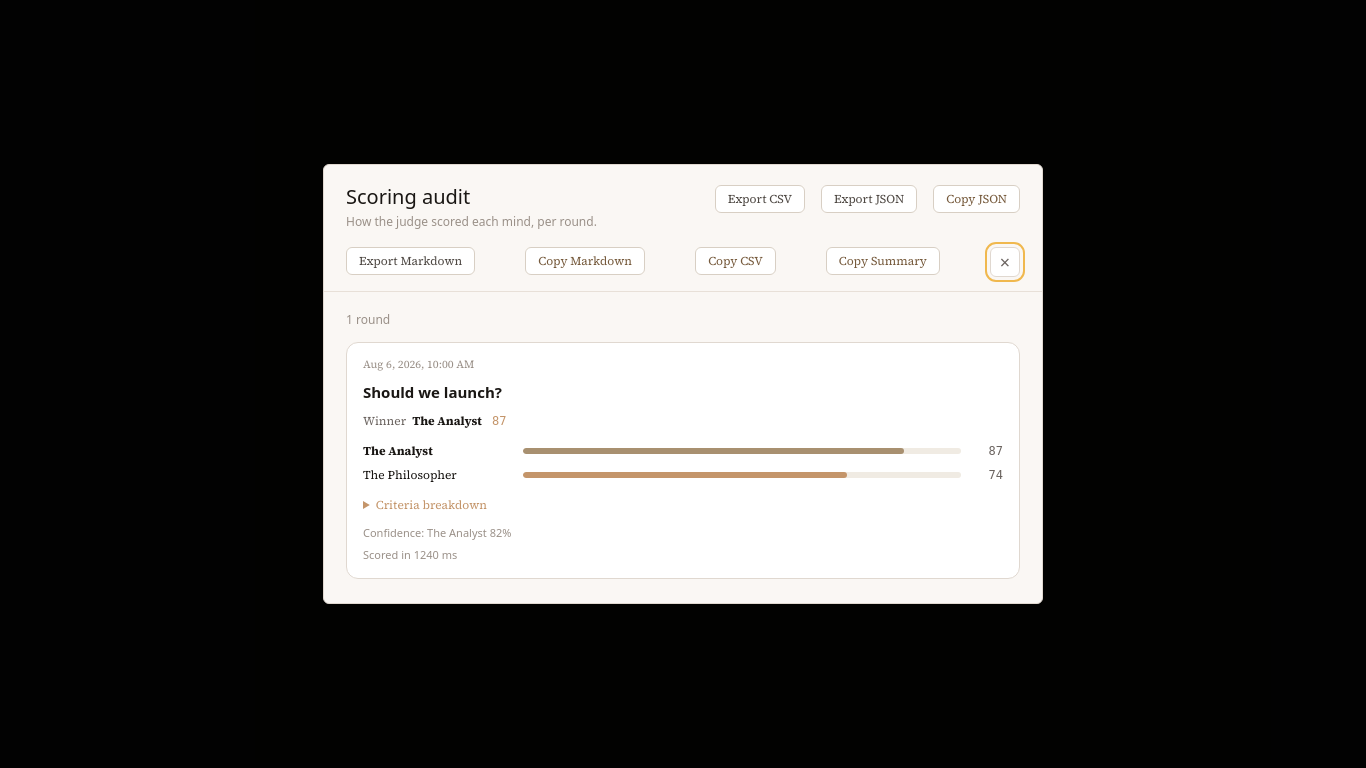
ScoringAuditModal › surfaces a clipboard failure instead of claiming Markdown was copied
Check: the text "Should we launch?" is shown, box [363,382,502,402]
What coordinates should you click on to do the following:
click the button with aria-label "copy scoring audit as markdown"
I would click on:
 (585, 262)
Its box is [525,248,645,276].
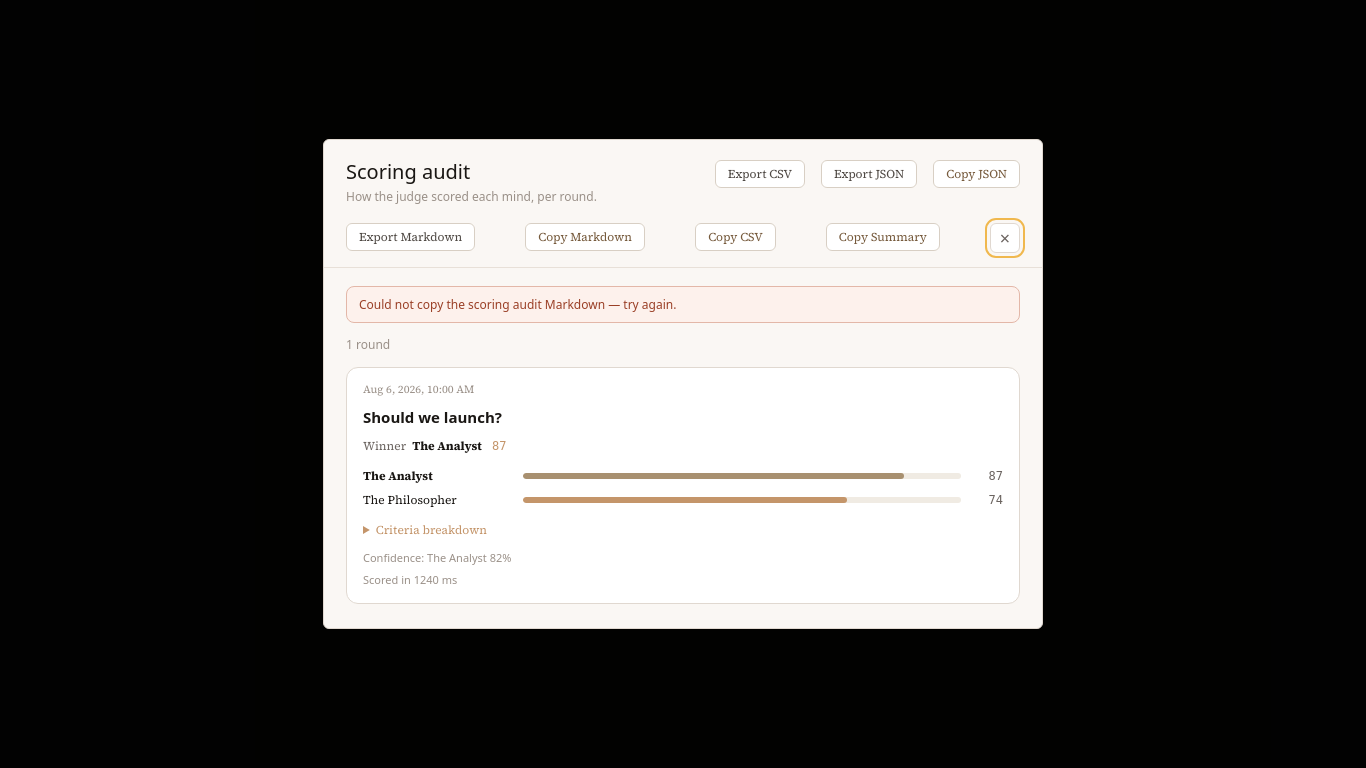
Check: the message shows "Could not copy", box [359,296,676,313]
